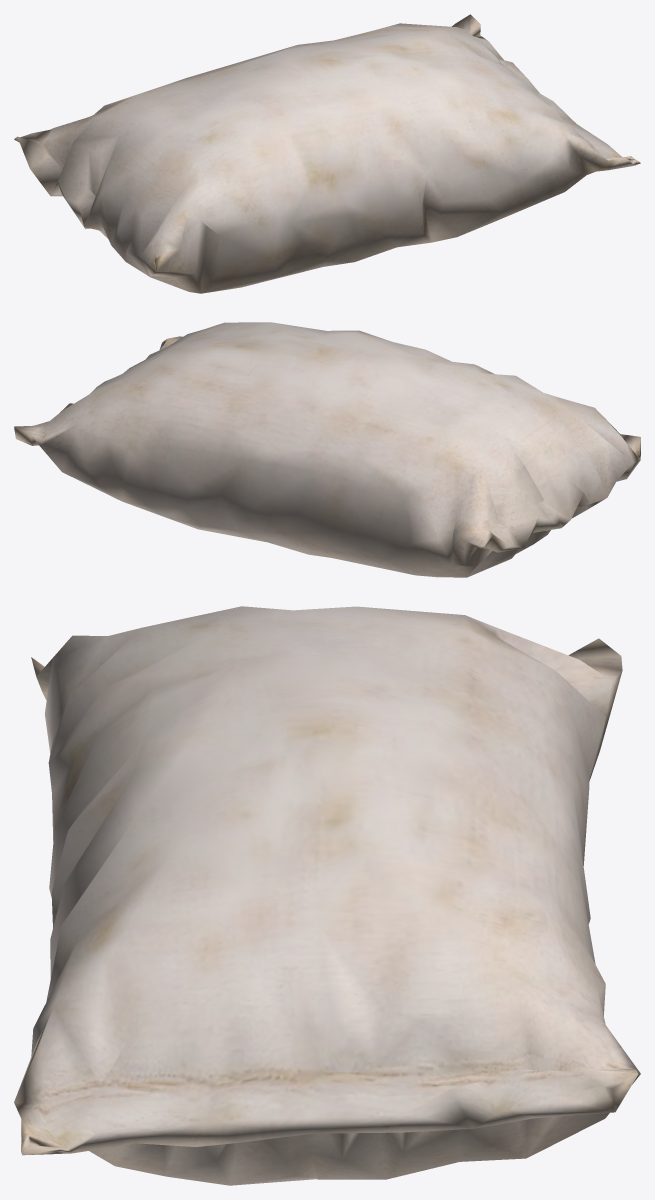
The model's file is cuval-ham.glb.
3 renders of one model, top to bottom at view 1: azimuth 30°, elevation 25°; view 2: azimuth 150°, elevation 25°; view 3: azimuth 270°, elevation 25°, orthographic. The views are drawn at different scales.
Visible parts, largest first — view 1: tripo_node_934cb61f-bfaf-4766-90d1-5a1d3994f8a0; view 2: tripo_node_934cb61f-bfaf-4766-90d1-5a1d3994f8a0; view 3: tripo_node_934cb61f-bfaf-4766-90d1-5a1d3994f8a0.
Part boxes in pixels (left/top/right/bottom): tripo_node_934cb61f-bfaf-4766-90d1-5a1d3994f8a0: left=14, top=14, right=640, bottom=293; tripo_node_934cb61f-bfaf-4766-90d1-5a1d3994f8a0: left=14, top=322, right=640, bottom=577; tripo_node_934cb61f-bfaf-4766-90d1-5a1d3994f8a0: left=14, top=606, right=640, bottom=1185.
Bounding box in the file's own units: 0.9751 × 0.3517 × 0.5635.
1 material, 1 textured.
